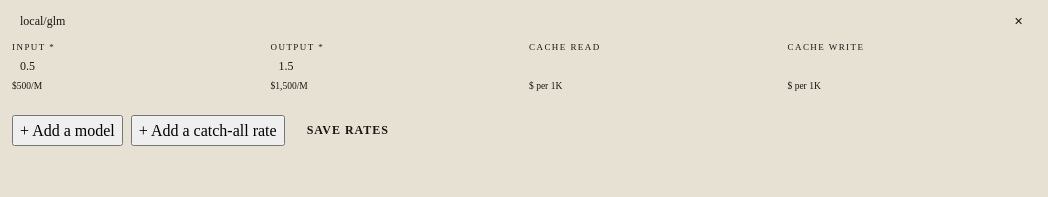
Test: saving sends the whole table, as typed
The image size is (1048, 197).
Replace the text in the number field named "Input rate for local/glm" with "0.25" at coordinates (136, 66), box [12,54,260,79]
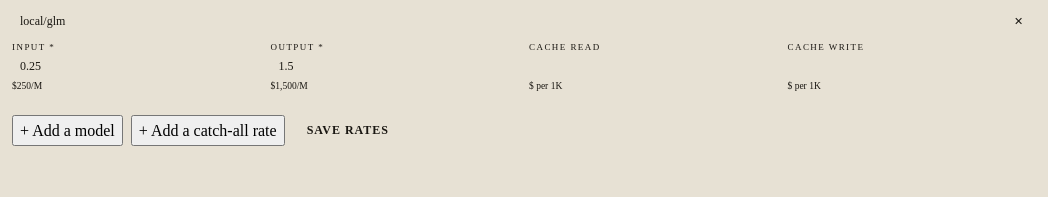
Click the button "Save rates" at coordinates (348, 130), box [293,115,403,146]
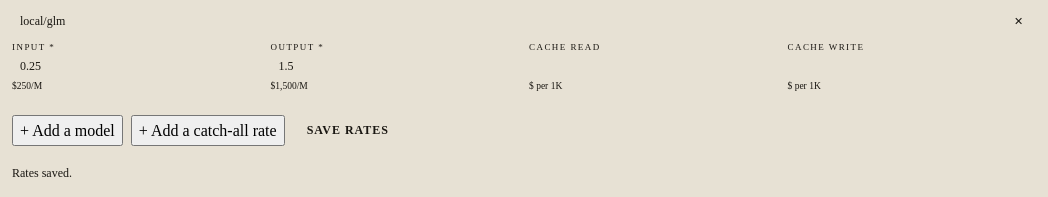
Now the text "Rates saved." is shown, box [12,166,72,180]
